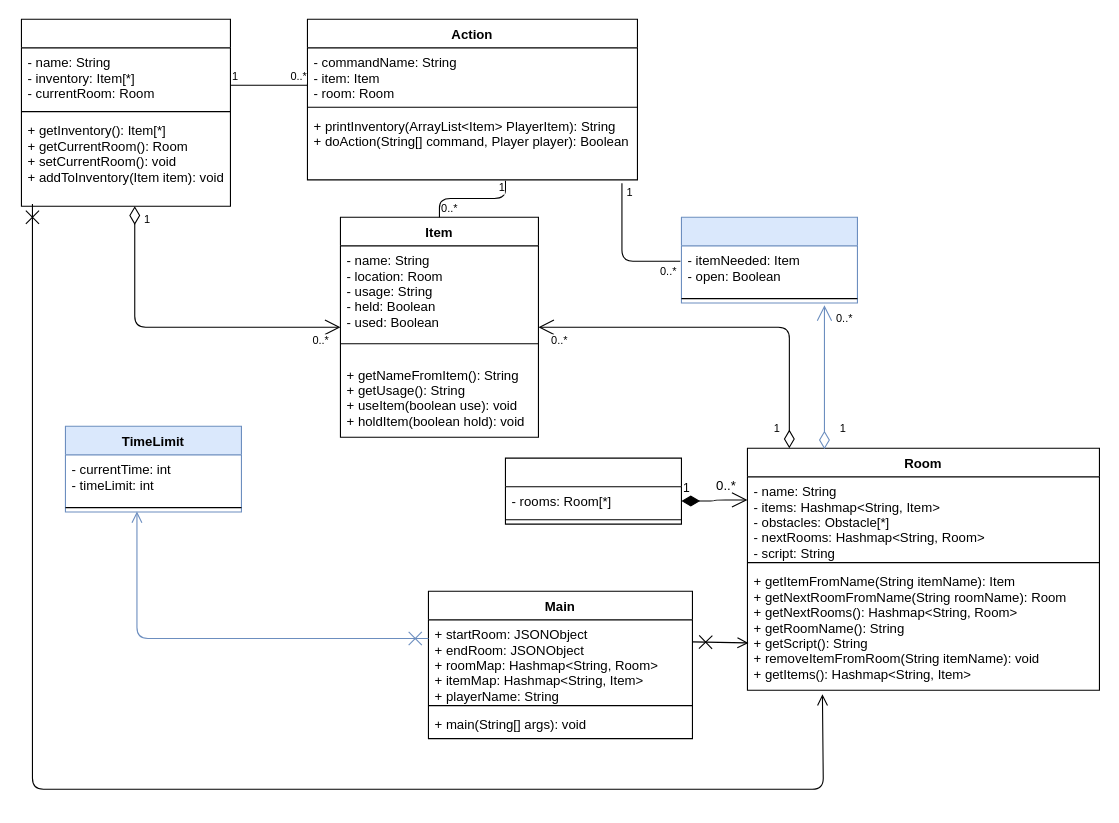
This 1119x823 diagram has some shape labels left out. The shapes that lost their labels are listed below. From the top down, each one's box as (x1, y1, x2, y2) in pixels, then its label:
(20, 18, 230, 206): Player
(680, 216, 857, 303): Obstacle
(504, 457, 681, 524): Setting
